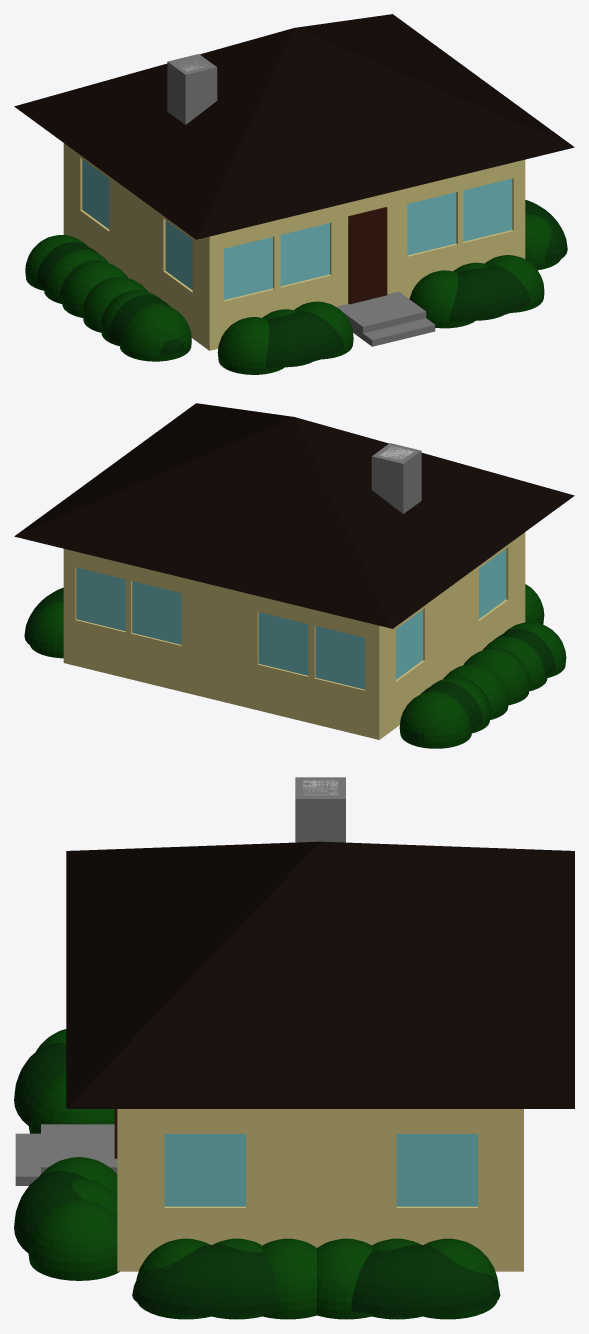
Rendered from smoothiehouse.obj.
3 views of the same model, one above another, from view 1: azimuth 30°, elevation 25°; view 2: azimuth 150°, elevation 25°; view 3: azimuth 270°, elevation 25° (orthographic). The views are drawn at different scales.
Parts seen in each view (by area): view 1: Sphere.015_Sphere.026, Sphere.003_Sphere.005, Sphere.002_Sphere.006, Sphere.006_Sphere.009, Sphere.007_Sphere.010, Sphere.011_Sphere.014; view 2: Sphere.015_Sphere.026, Sphere.007_Sphere.010, Sphere.006_Sphere.009, Sphere.010_Sphere.013; view 3: Sphere.015_Sphere.026, Sphere.011_Sphere.014, Sphere.010_Sphere.013, Sphere.003_Sphere.005, Sphere.002_Sphere.006.
Boxes of the visible parts, x1,y1,x2,y2 form: Sphere.015_Sphere.026: [14, 14, 574, 374]; Sphere.003_Sphere.005: [450, 265, 530, 322]; Sphere.002_Sphere.006: [266, 311, 343, 367]; Sphere.006_Sphere.009: [101, 290, 184, 355]; Sphere.007_Sphere.010: [36, 242, 103, 297]; Sphere.011_Sphere.014: [525, 200, 567, 262]; Sphere.015_Sphere.026: [14, 403, 574, 748]; Sphere.007_Sphere.010: [410, 677, 490, 741]; Sphere.006_Sphere.009: [492, 629, 555, 684]; Sphere.010_Sphere.013: [24, 587, 63, 649]; Sphere.015_Sphere.026: [15, 777, 574, 1319]; Sphere.011_Sphere.014: [132, 1244, 281, 1316]; Sphere.010_Sphere.013: [351, 1244, 500, 1316]; Sphere.003_Sphere.005: [14, 1171, 87, 1253]; Sphere.002_Sphere.006: [14, 1042, 66, 1127].
Bounding box in the file's own units: 14.03 × 7.2 × 11.03.
